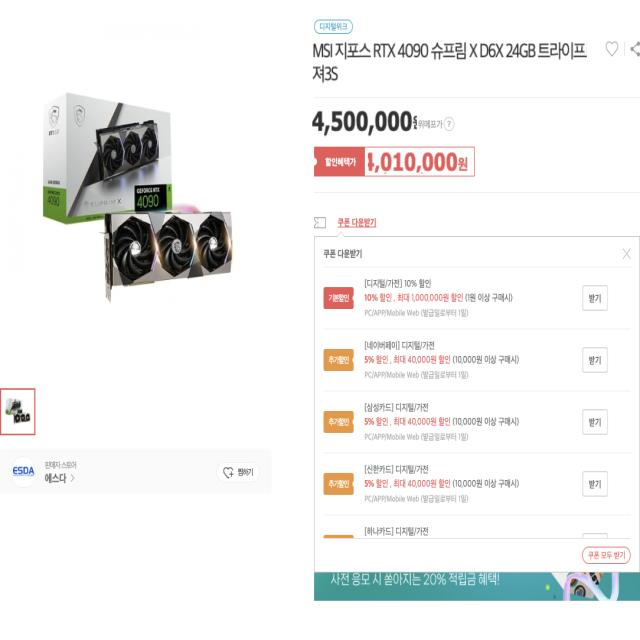product_discount_price: (368, 149, 468, 173)
product_name: (312, 42, 587, 90)
product_original_price: (312, 112, 417, 140)
